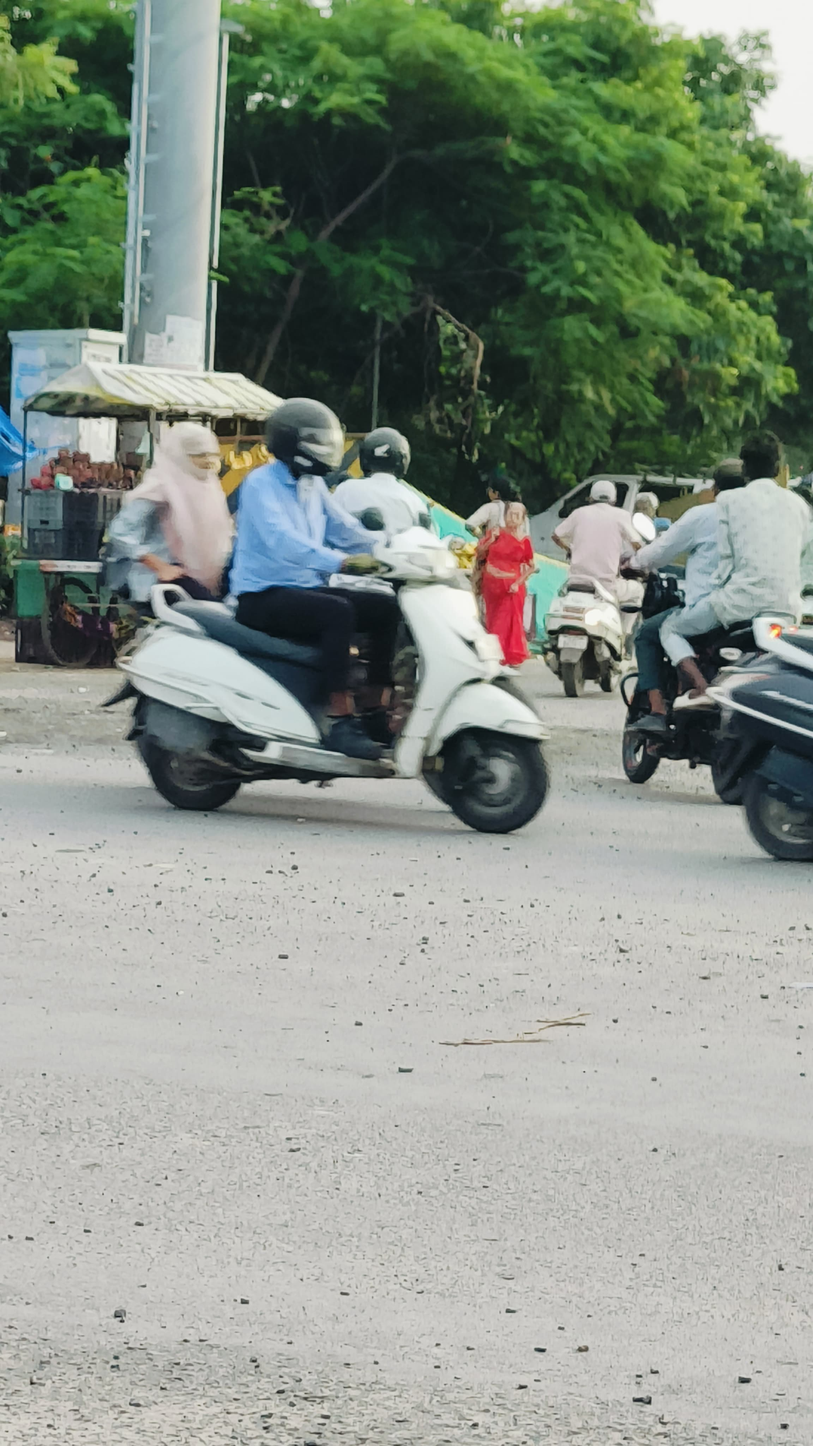BikeWithRider: (114, 373, 568, 907)
Helmet: (603, 398, 813, 834), (263, 386, 358, 486)
NoHelmet: (736, 429, 787, 490), (705, 450, 752, 510)
